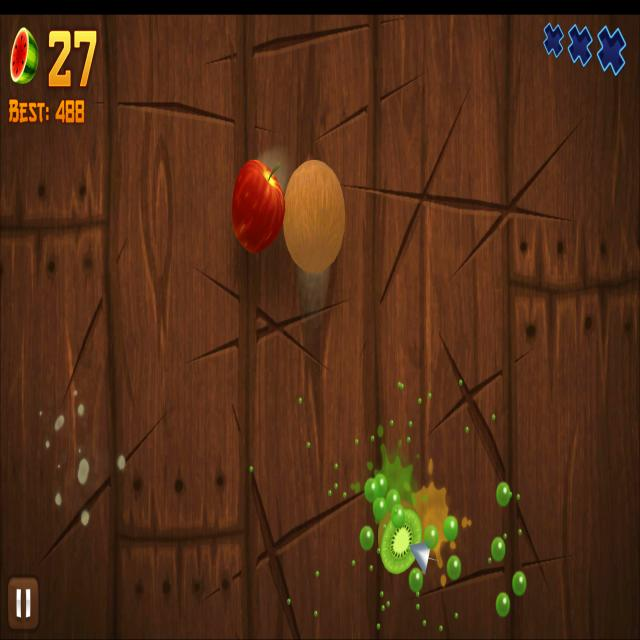fruit: (283, 159, 347, 273), (231, 158, 286, 254), (379, 522, 416, 576)
